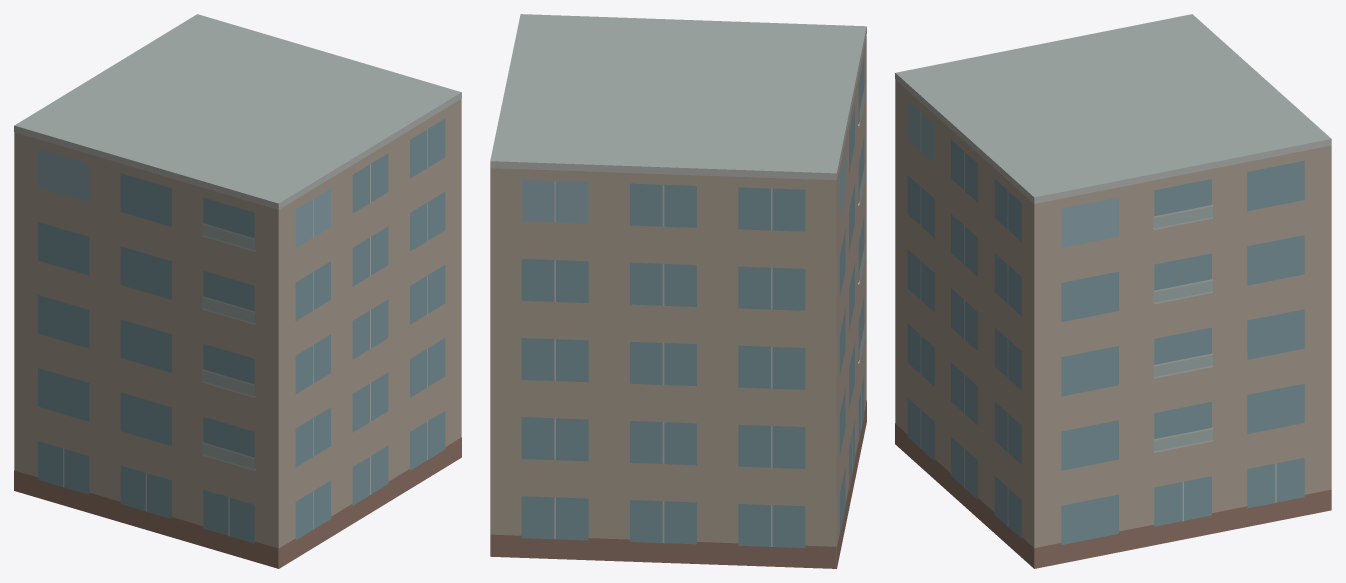
File: survey-upis-32726668.glb
The picture shows the model from 3 angles, left to right: view 1: azimuth 30°, elevation 25°; view 2: azimuth 150°, elevation 25°; view 3: azimuth 270°, elevation 25°; orthographic projection. The views are drawn at different scales.
Parts seen in each view (by area): view 1: survey-upis-32726668.tmp; view 2: survey-upis-32726668.tmp; view 3: survey-upis-32726668.tmp.
Part boxes in pixels (x1,y1,x2,y2): survey-upis-32726668.tmp: (14,14,461,568); survey-upis-32726668.tmp: (490,14,866,568); survey-upis-32726668.tmp: (895,14,1331,568).
Bounding box in the file's own units: 14.74 × 13.9 × 14.81.
